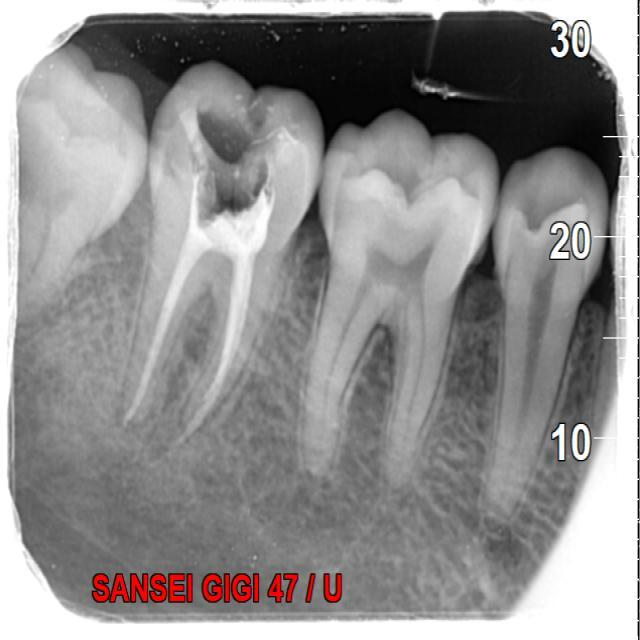individual-tooth-8tto: (118, 69, 322, 464), (296, 114, 508, 488)
